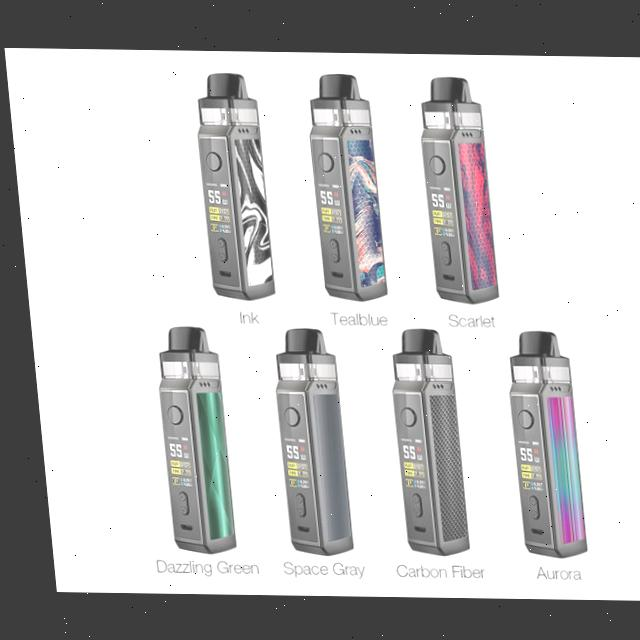vape: (495, 328, 579, 558), (301, 72, 385, 302), (412, 74, 496, 304), (378, 327, 462, 556), (263, 327, 346, 558), (189, 71, 271, 302), (145, 325, 227, 555)
